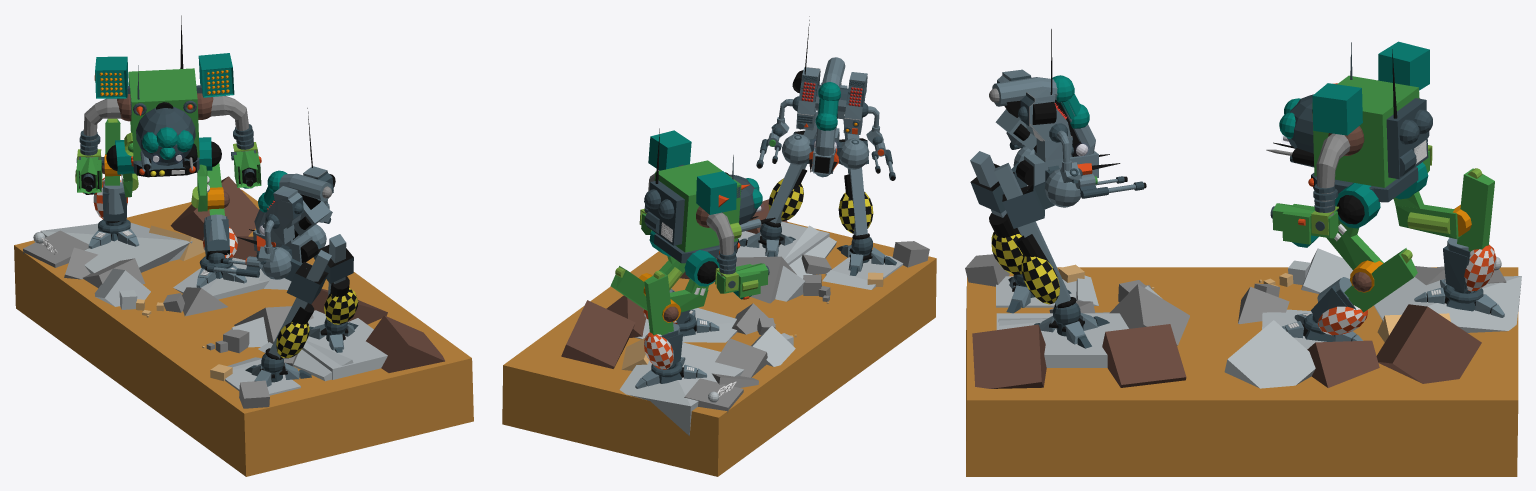
Rendered from mech.glb.
3 views of the same model, side by side, from view 1: azimuth 30°, elevation 25°; view 2: azimuth 150°, elevation 25°; view 3: azimuth 270°, elevation 25° (orthographic). The views are drawn at different scales.
Visible parts, largest first — view 1: node_MeshObject-559648640-PolyPaper13, node_MeshObject1253104512-PolyPaper23, node_MeshObject1381847360-PolyPaper23, node_MeshObject1987131328-PolyPaper13, node_MeshObject1143288512-PolyPaper17, node_MeshObject1736848000-PolyPaper11; view 2: node_MeshObject-559648640-PolyPaper13, node_MeshObject1253104512-PolyPaper23, node_MeshObject1381847360-PolyPaper23, node_MeshObject1987131328-PolyPaper13, node_MeshObject1143288512-PolyPaper17, node_MeshObject1736848000-PolyPaper11; view 3: node_MeshObject-559648640-PolyPaper13, node_MeshObject1253104512-PolyPaper23, node_MeshObject1987131328-PolyPaper13, node_MeshObject1381847360-PolyPaper23, node_MeshObject1143288512-PolyPaper17, node_MeshObject1736848000-PolyPaper11.
Part boxes in pixels (x1=…): node_MeshObject-559648640-PolyPaper13: x1=14, y1=72, x2=473, y2=476; node_MeshObject1253104512-PolyPaper23: x1=40, y1=170, x2=444, y2=395; node_MeshObject1381847360-PolyPaper23: x1=76, y1=15, x2=358, y2=372; node_MeshObject1987131328-PolyPaper13: x1=33, y1=53, x2=358, y2=329; node_MeshObject1143288512-PolyPaper17: x1=83, y1=65, x2=333, y2=408; node_MeshObject1736848000-PolyPaper11: x1=133, y1=86, x2=215, y2=177; node_MeshObject-559648640-PolyPaper13: x1=502, y1=67, x2=936, y2=476; node_MeshObject1253104512-PolyPaper23: x1=561, y1=71, x2=903, y2=435; node_MeshObject1381847360-PolyPaper23: x1=654, y1=67, x2=895, y2=371; node_MeshObject1987131328-PolyPaper13: x1=610, y1=16, x2=880, y2=402; node_MeshObject1143288512-PolyPaper17: x1=641, y1=57, x2=929, y2=364; node_MeshObject1736848000-PolyPaper11: x1=654, y1=189, x2=762, y2=263; node_MeshObject-559648640-PolyPaper13: x1=966, y1=90, x2=1518, y2=476; node_MeshObject1253104512-PolyPaper23: x1=972, y1=75, x2=1521, y2=388; node_MeshObject1987131328-PolyPaper13: x1=997, y1=29, x2=1504, y2=348; node_MeshObject1381847360-PolyPaper23: x1=989, y1=49, x2=1471, y2=338; node_MeshObject1143288512-PolyPaper17: x1=965, y1=42, x2=1470, y2=330; node_MeshObject1736848000-PolyPaper11: x1=1279, y1=112, x2=1418, y2=202.
Size of the model in its own units: 2.63 by 3.54 by 4.62.
